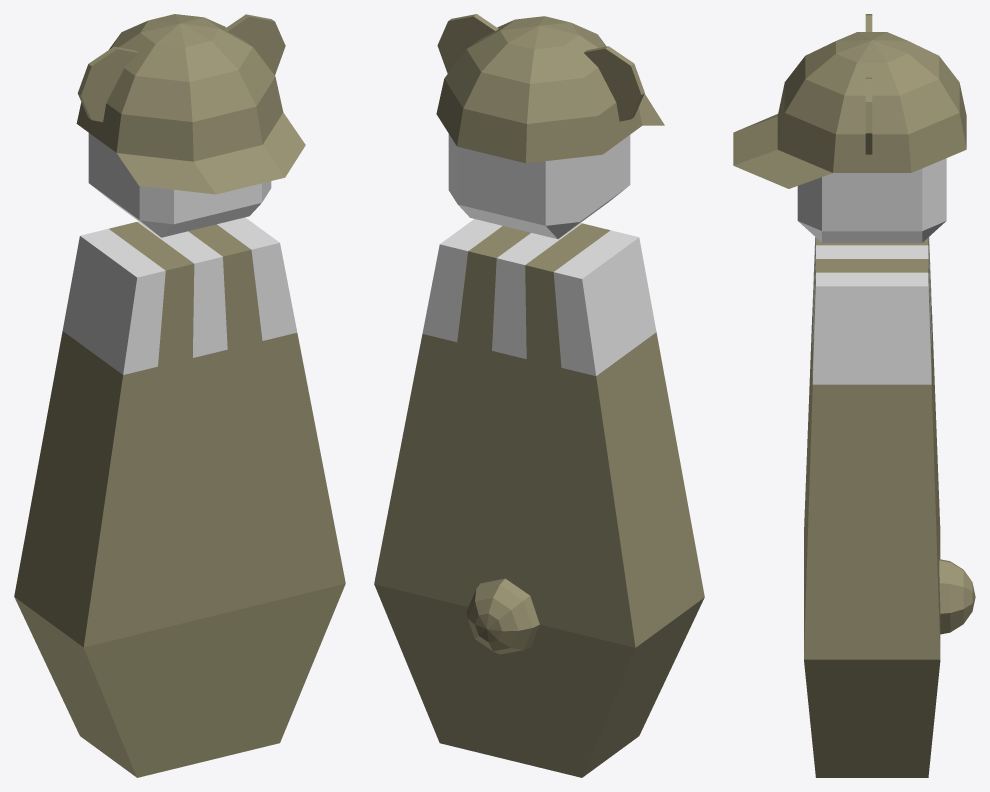
Rendered from homeless.fbx.
3 renders of one model, left to right at view 1: azimuth 30°, elevation 25°; view 2: azimuth 150°, elevation 25°; view 3: azimuth 270°, elevation 25°, orthographic.
Parts seen in each view (by area): view 1: Cube.013, Cube.012; view 2: Cube.013, Cube.012; view 3: Cube.013, Cube.012.
Part boxes in pixels (x1,y1,x2,y2): Cube.013: [14, 217, 345, 777]; Cube.012: [76, 14, 305, 237]; Cube.013: [374, 219, 704, 777]; Cube.012: [436, 14, 664, 239]; Cube.013: [804, 237, 975, 777]; Cube.012: [733, 14, 966, 242].
Size of the model in its own units: 72.22 by 189 by 58.85.
